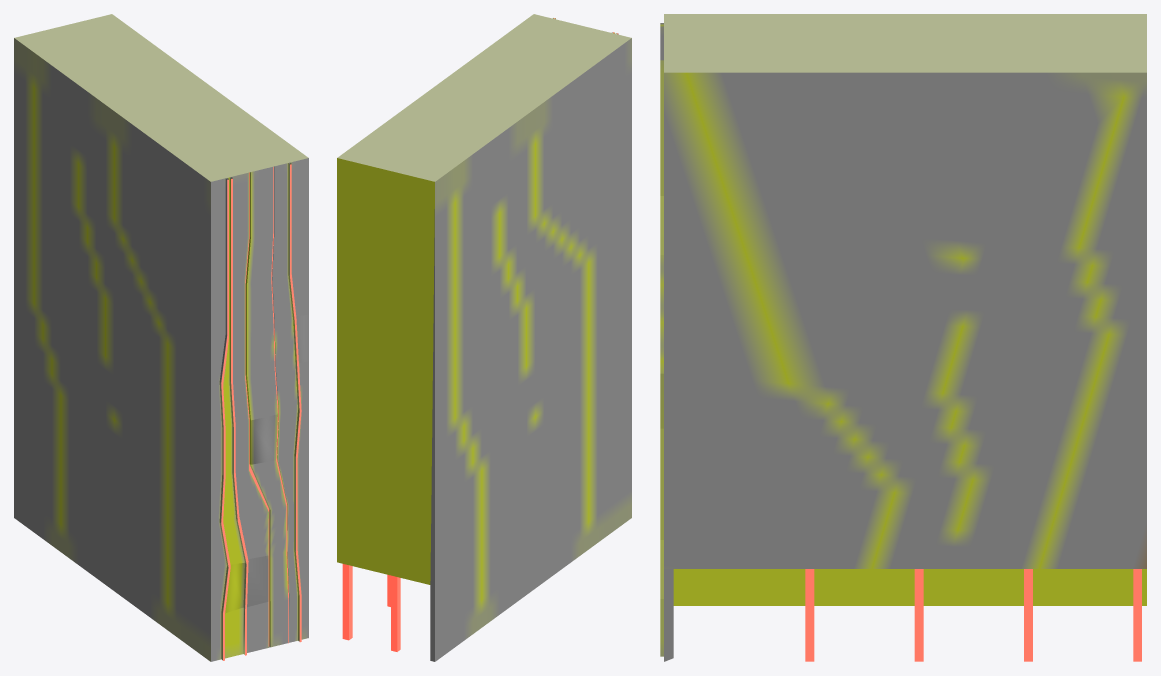
File: High_Building_1.glb
3 views of the same model, side by side, from view 1: azimuth 30°, elevation 25°; view 2: azimuth 150°, elevation 25°; view 3: azimuth 270°, elevation 25° (orthographic). The views are drawn at different scales.
Parts seen in each view (by area): view 1: highBuilding1; view 2: highBuilding1; view 3: highBuilding1.
Boxes of the visible parts, bbox=[...] form: highBuilding1: bbox=[14, 14, 308, 661]; highBuilding1: bbox=[337, 14, 631, 661]; highBuilding1: bbox=[660, 14, 1146, 661].
Size of what is drawn, in the model's own units: 5.08 by 23.87 by 17.82.
Materials: 2 (1 with a texture image).
